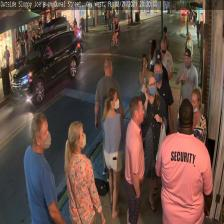person: (155, 98, 214, 224), (23, 112, 66, 224), (64, 120, 103, 223), (139, 72, 167, 210), (94, 58, 122, 182), (182, 86, 206, 196), (104, 88, 124, 216), (124, 96, 144, 222), (176, 48, 198, 132), (157, 39, 173, 105), (139, 55, 151, 111)
